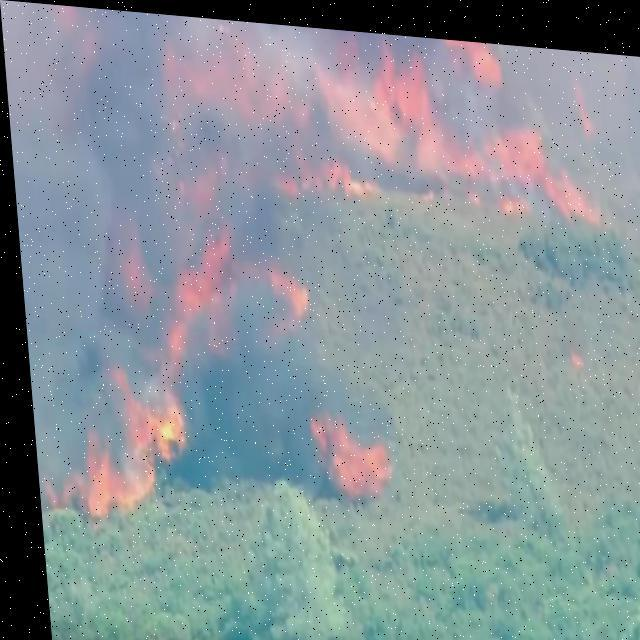Fire: (170, 48, 592, 213), (18, 216, 244, 516), (297, 394, 385, 500), (258, 258, 308, 324)
